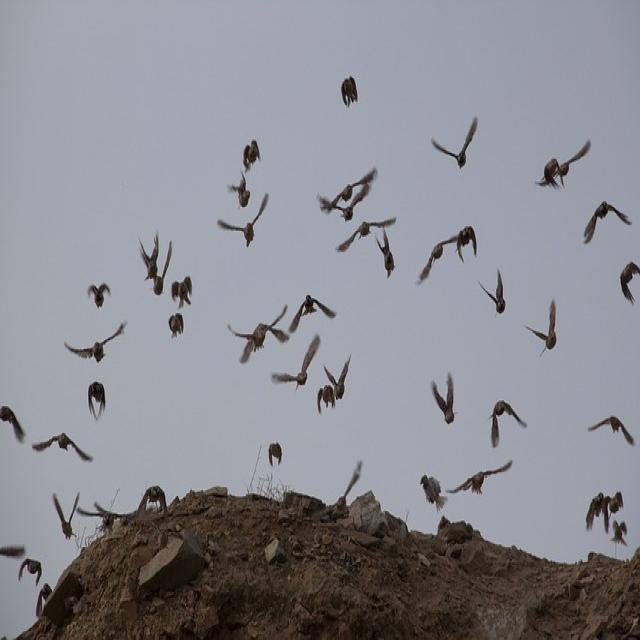bird: (314, 166, 381, 224), (532, 142, 592, 192), (218, 193, 272, 247), (62, 322, 126, 366), (432, 118, 484, 170), (136, 230, 173, 297), (226, 319, 278, 365), (580, 201, 633, 245), (363, 224, 399, 282), (582, 490, 625, 538), (522, 301, 560, 352), (413, 238, 455, 282), (293, 330, 324, 389), (451, 466, 509, 496), (321, 351, 352, 407), (48, 491, 79, 544), (490, 398, 528, 441), (430, 373, 457, 432), (482, 267, 512, 319), (291, 295, 334, 330), (418, 471, 452, 514), (588, 413, 631, 446), (534, 155, 572, 192), (336, 457, 365, 504), (222, 174, 256, 210), (89, 498, 125, 530), (616, 258, 639, 308), (0, 405, 28, 445), (451, 222, 481, 259), (166, 274, 195, 312), (14, 555, 46, 588), (83, 381, 109, 420), (336, 74, 362, 112), (238, 138, 262, 176), (28, 432, 66, 456), (138, 484, 168, 514), (268, 300, 292, 337), (85, 280, 112, 312), (312, 383, 338, 416), (34, 582, 55, 622), (608, 515, 630, 551), (262, 438, 286, 470), (164, 308, 187, 338)
